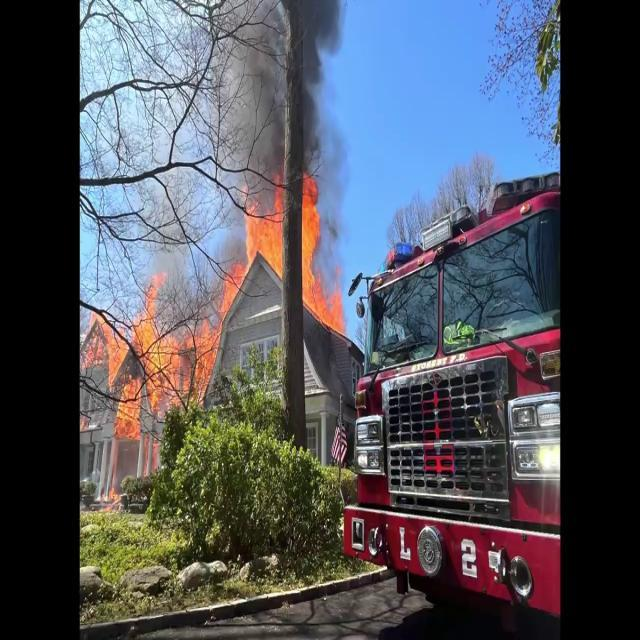Fire: (89, 271, 228, 438), (244, 178, 338, 332)
Smoke: (199, 0, 346, 167)
